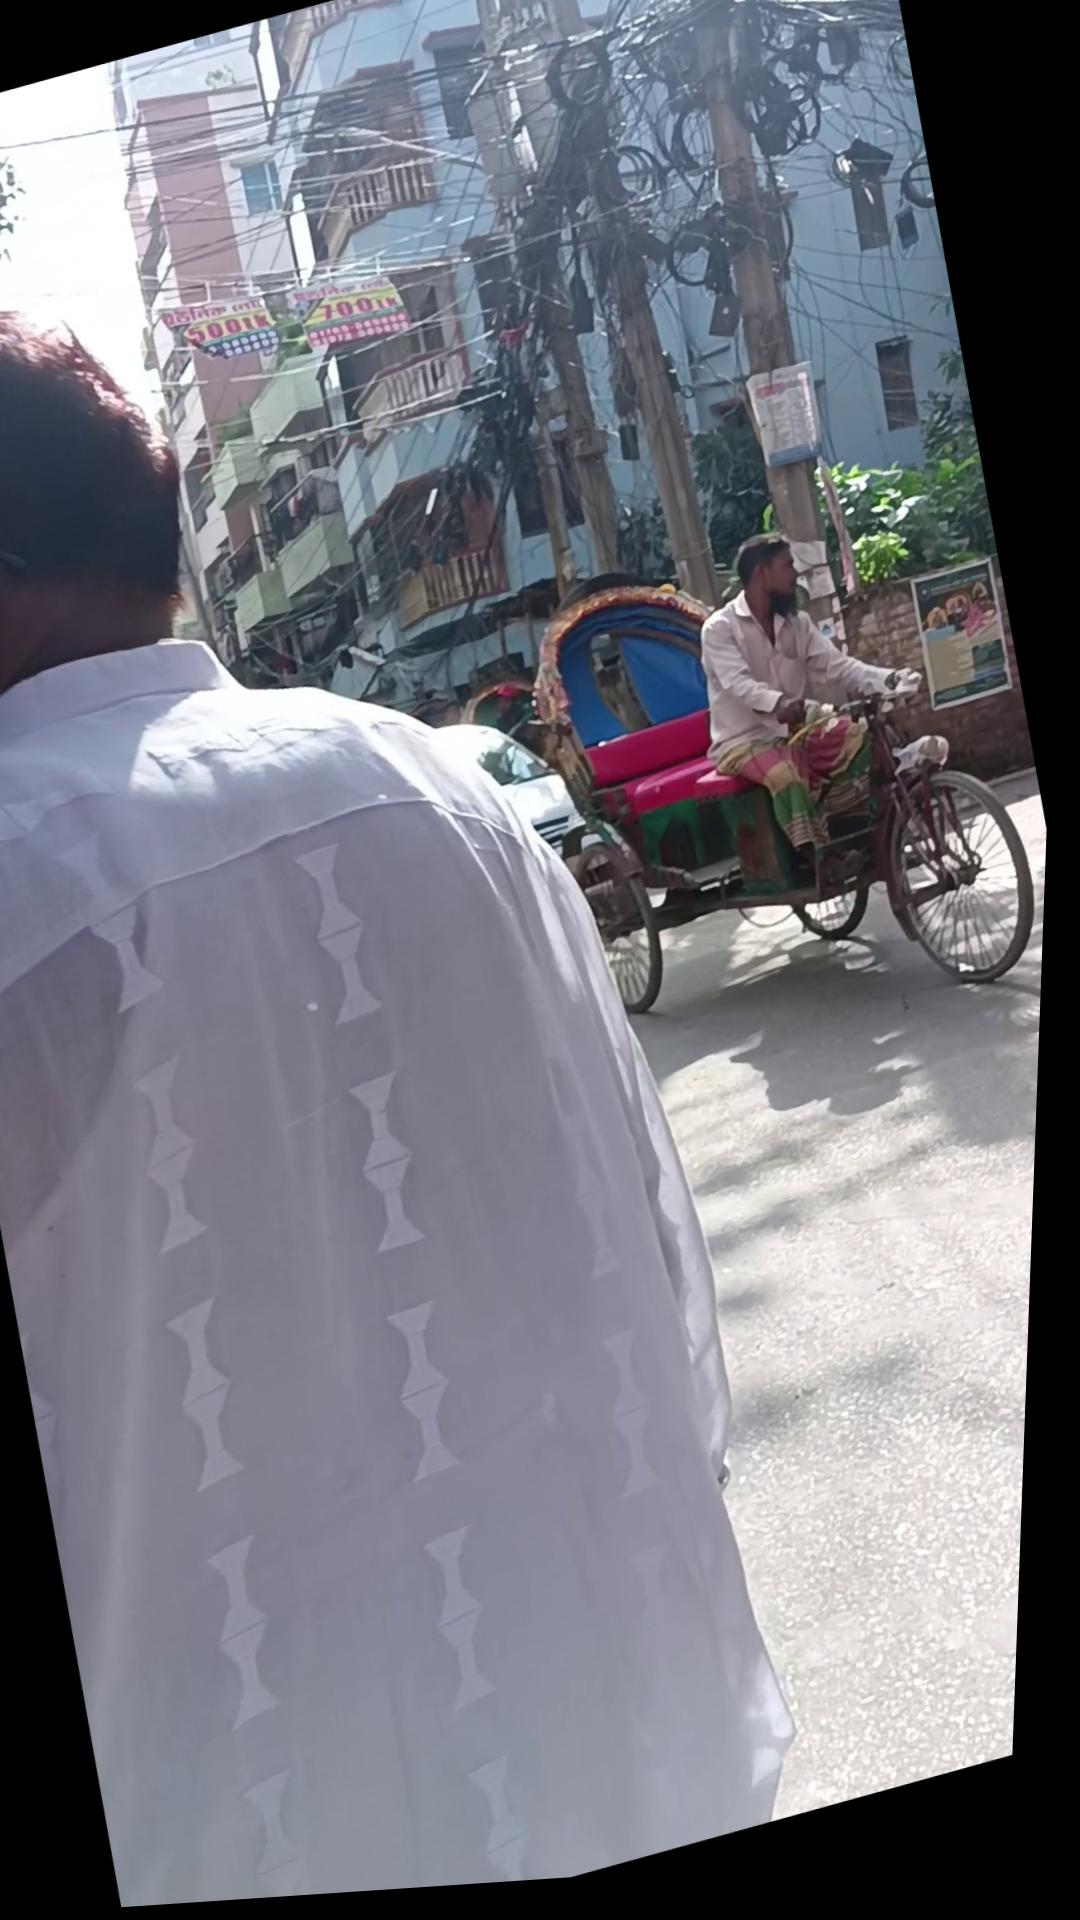Car: (430, 699, 600, 895)
Muddy road: (0, 132, 877, 1920), (663, 504, 978, 928)
Obstacle: (636, 0, 878, 682)
Pothole: (498, 488, 1064, 1108)
Stuck-water: (741, 368, 833, 485)
